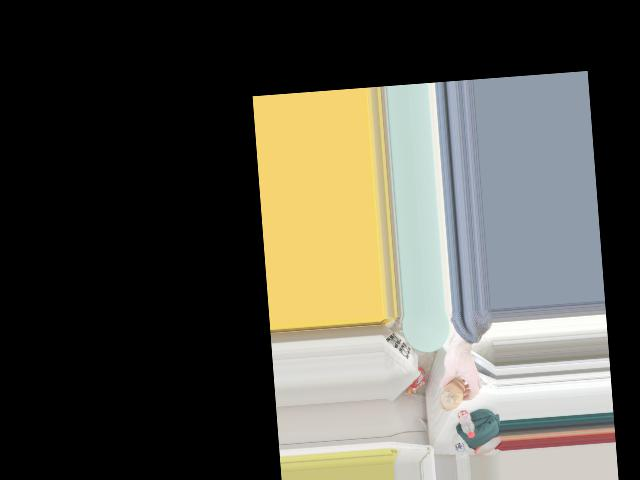sweet_potato: (437, 375, 468, 411)
